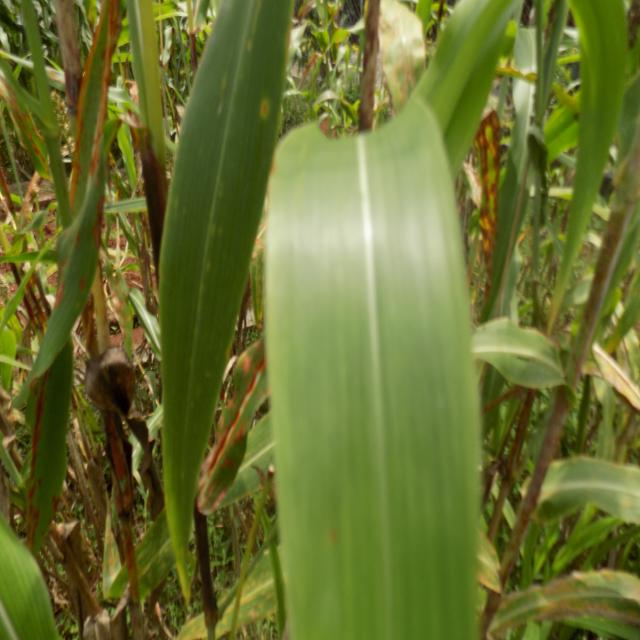millet_healthy: (255, 104, 487, 640), (152, 0, 291, 608)
